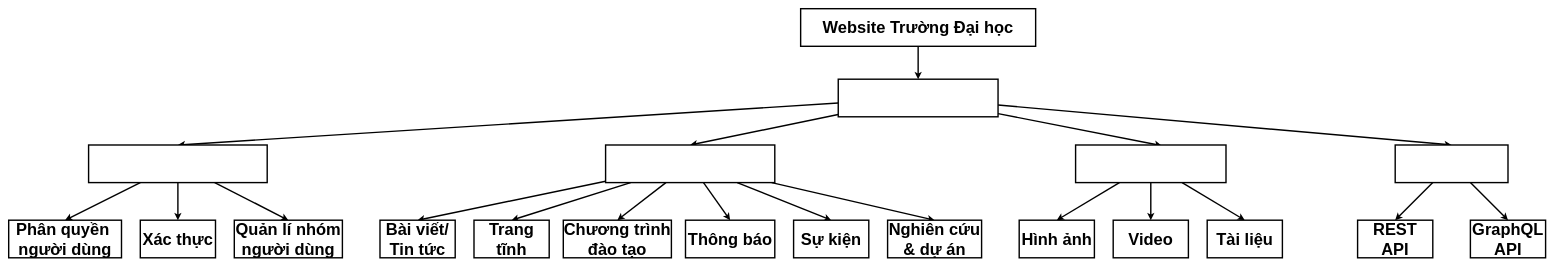
The diagram is 1554 pixels wide and 267 high, and some of its shapes have lost their labels. Each missing label, with the box of its shape:
Quản lí API: (1394, 144, 1508, 183)
Quản lí media: (1075, 144, 1226, 183)
Quản lí người dùng: (88, 144, 268, 183)
Quản lí nội dung: (605, 144, 775, 183)
Quản lí nội dung Directus CMS: (837, 78, 999, 117)
